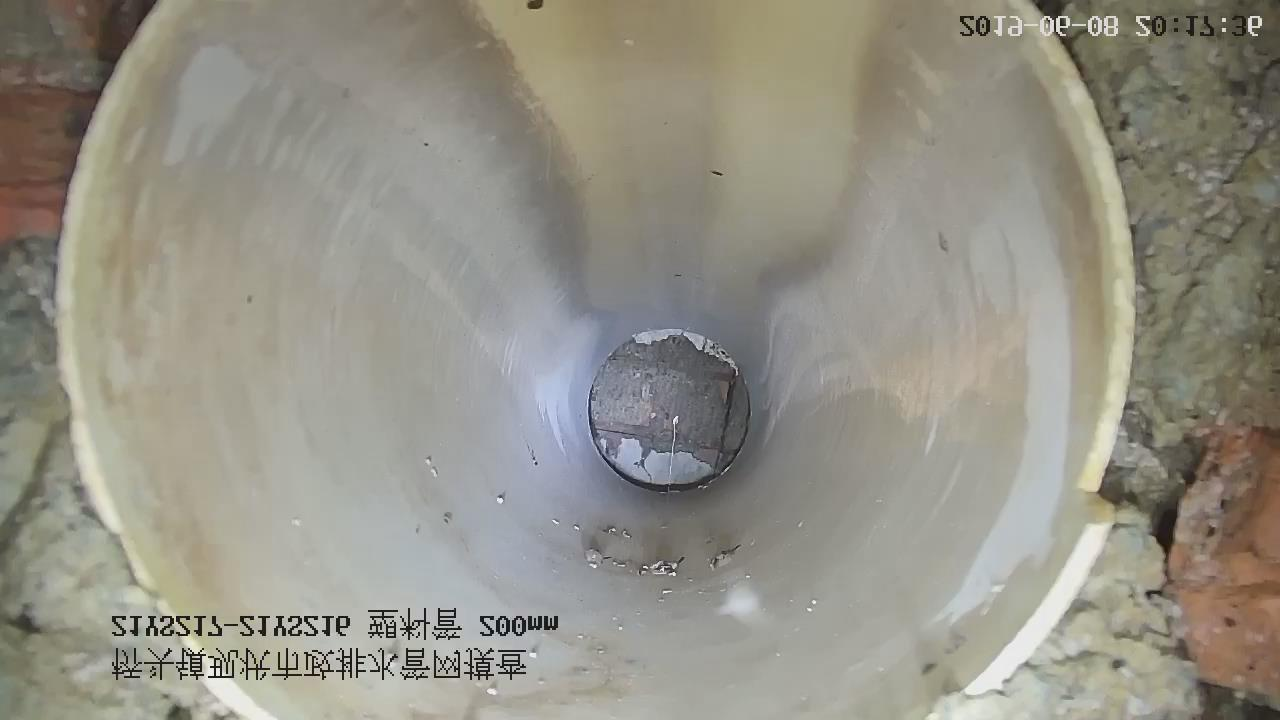CQBG: (588, 330, 750, 492)
